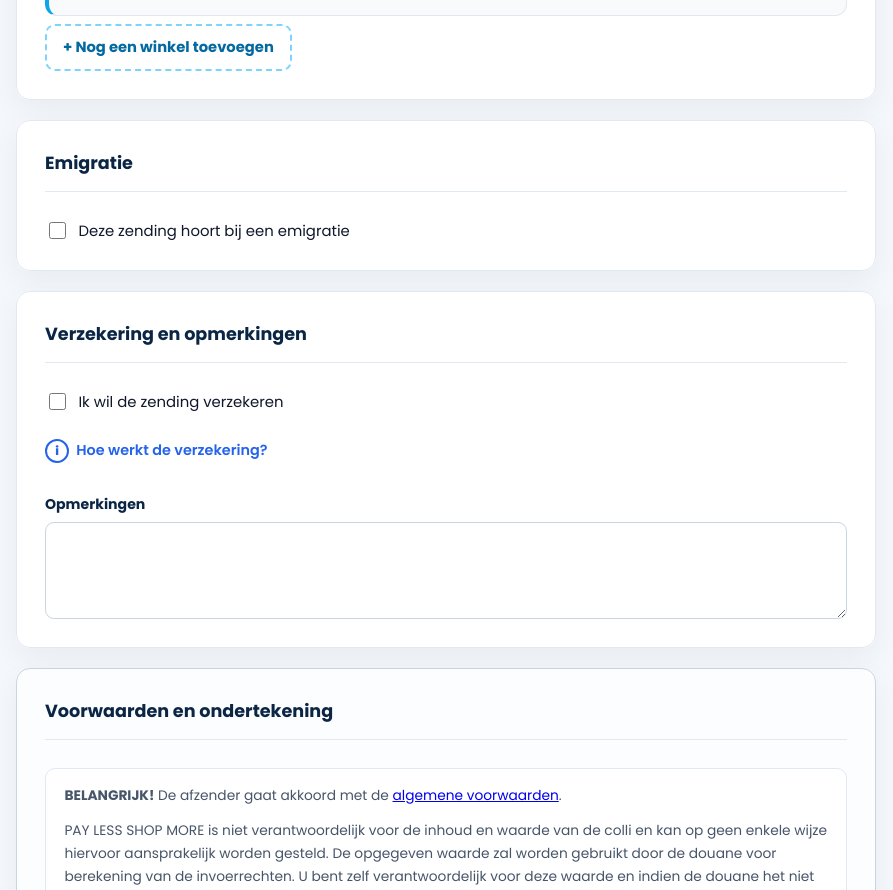
Test: booking: insurance terms › are in Dutch word for word
The width and height of the screenshot is (893, 890).
(page scrolled)
Click the button "i Hoe werkt de verzekering?". click: (156, 451)
box: [45,429,268,473]
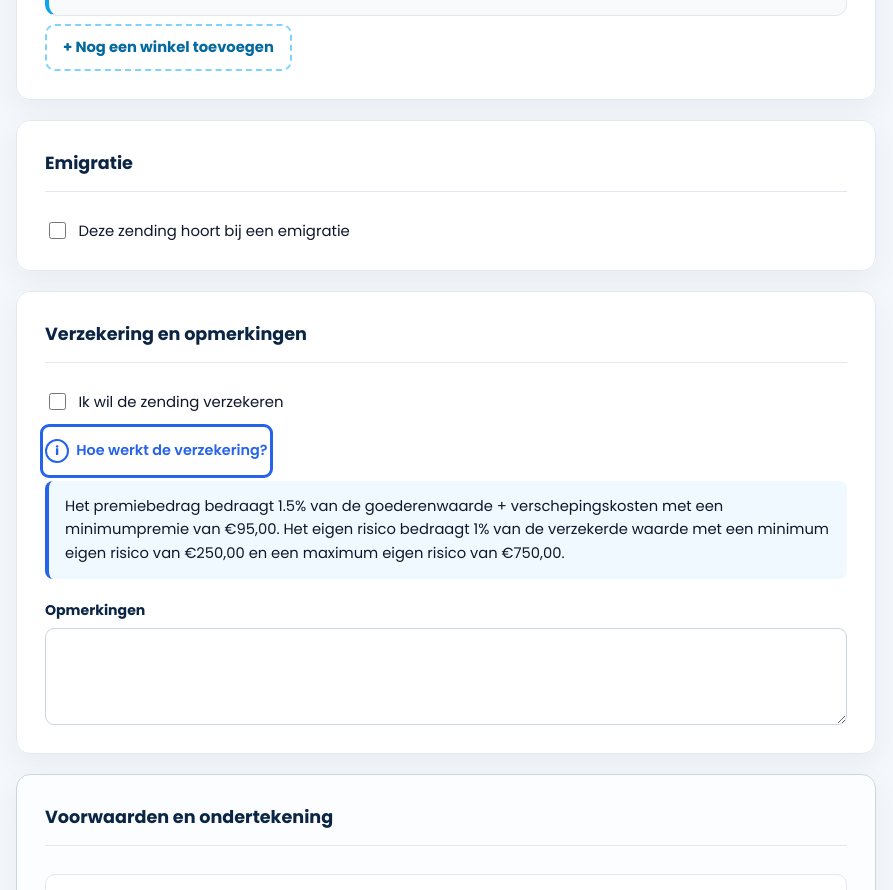
Result: the text "Het premiebedrag bedraagt 1.5% van de goederenwaarde + verschepingskosten met een minimumpremie van €95,00. Het eigen risico bedraagt 1% van de verzekerde waard" is shown at [65,496,829,563]
